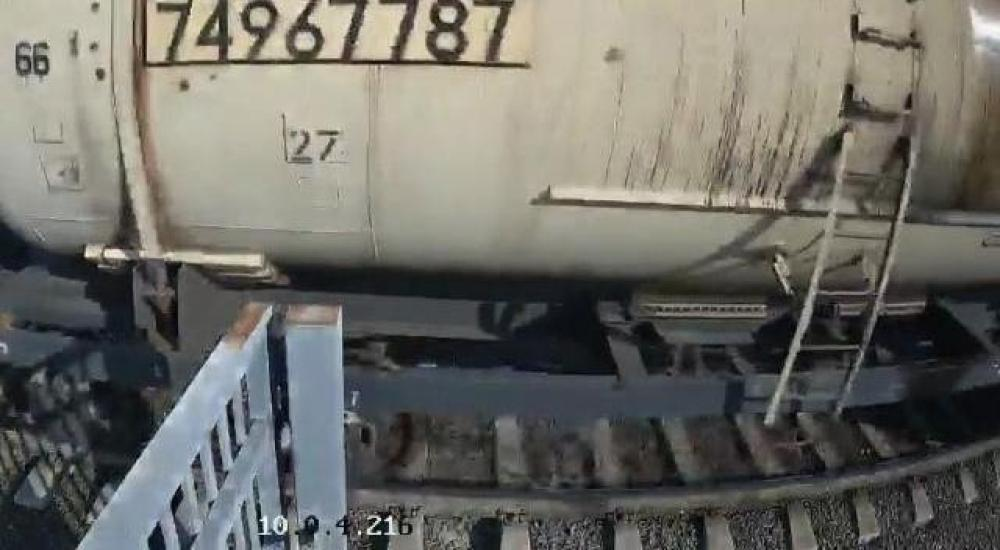Wagon-number: (144, 0, 525, 64)
